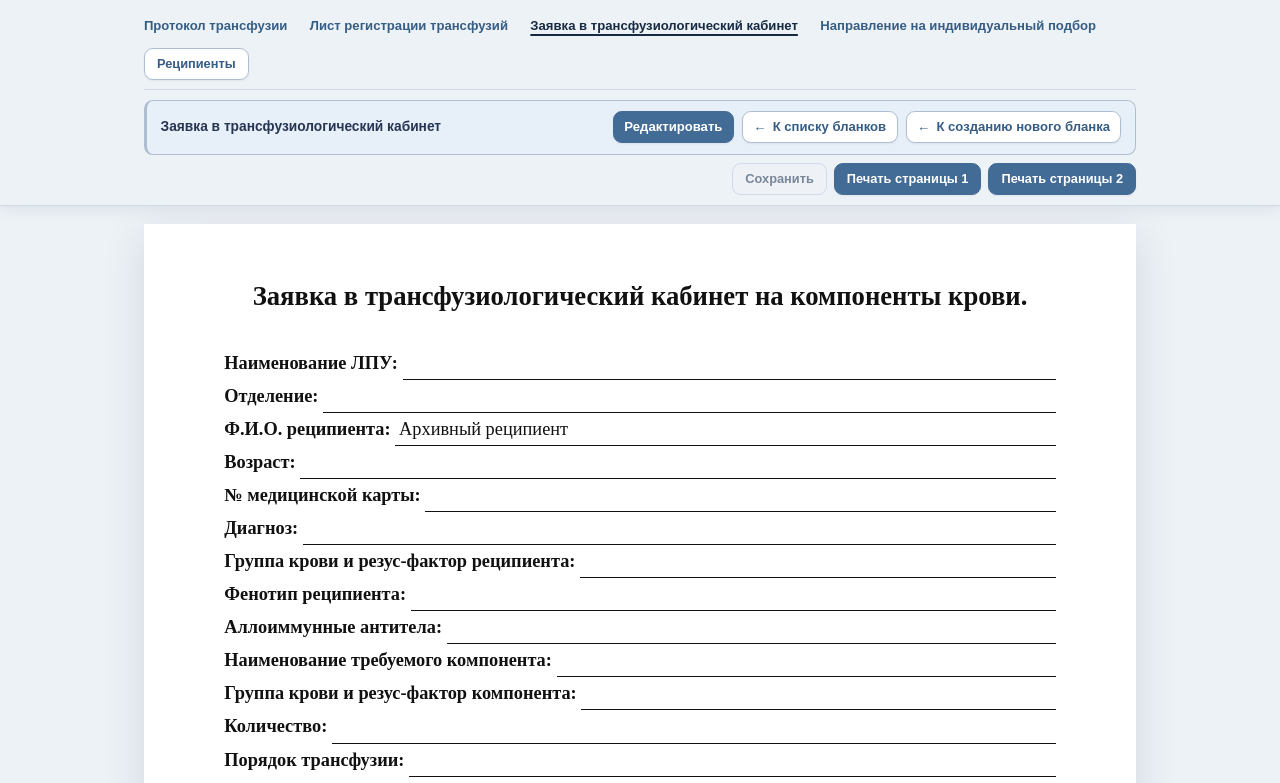
clears only the working component details when returning from view
Step 1. Click the button "← К созданию нового бланка" → (1013, 127), box [906,111,1121,143]
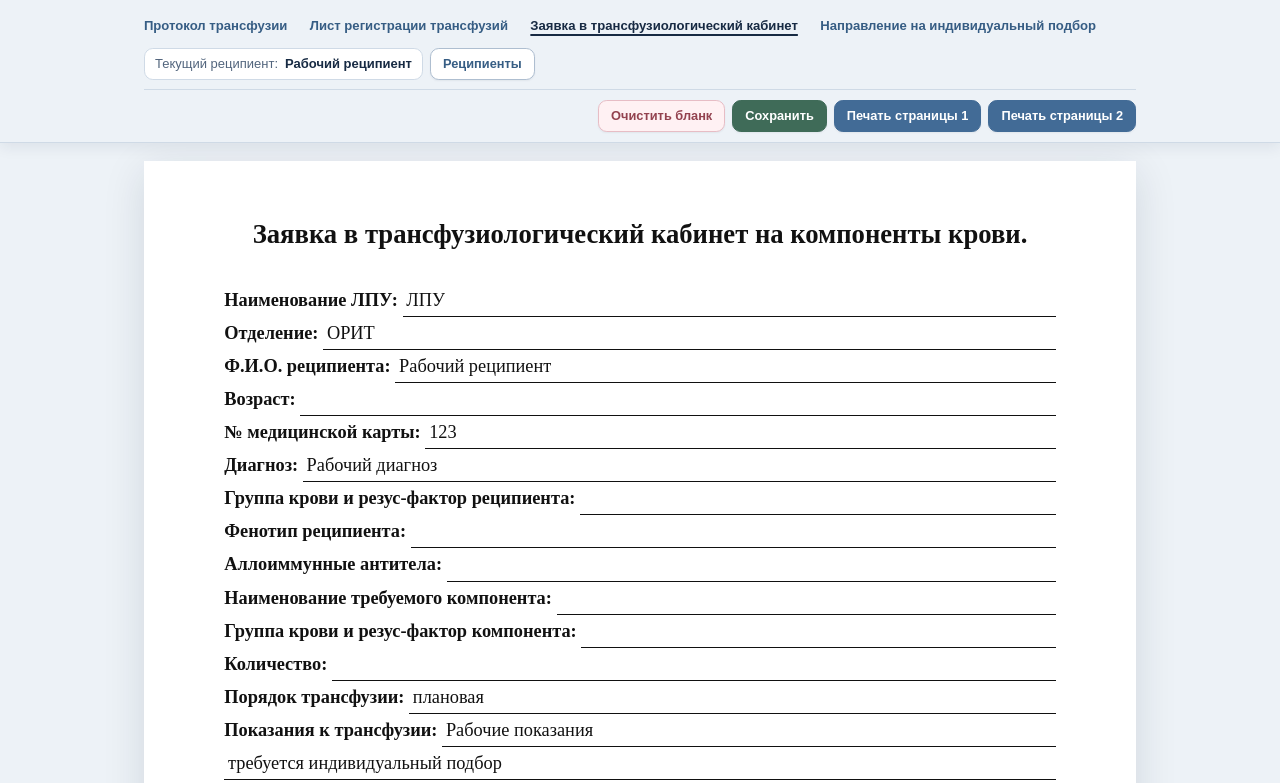
Result: the text "Рабочий реципиент" below "Протокол трансфузии" is shown at [285,56,412,71]
Result: the text "Рабочий диагноз" is shown at [303,449,1056,482]
Result: the text "ОРИТ" is shown at [323,317,1056,350]
